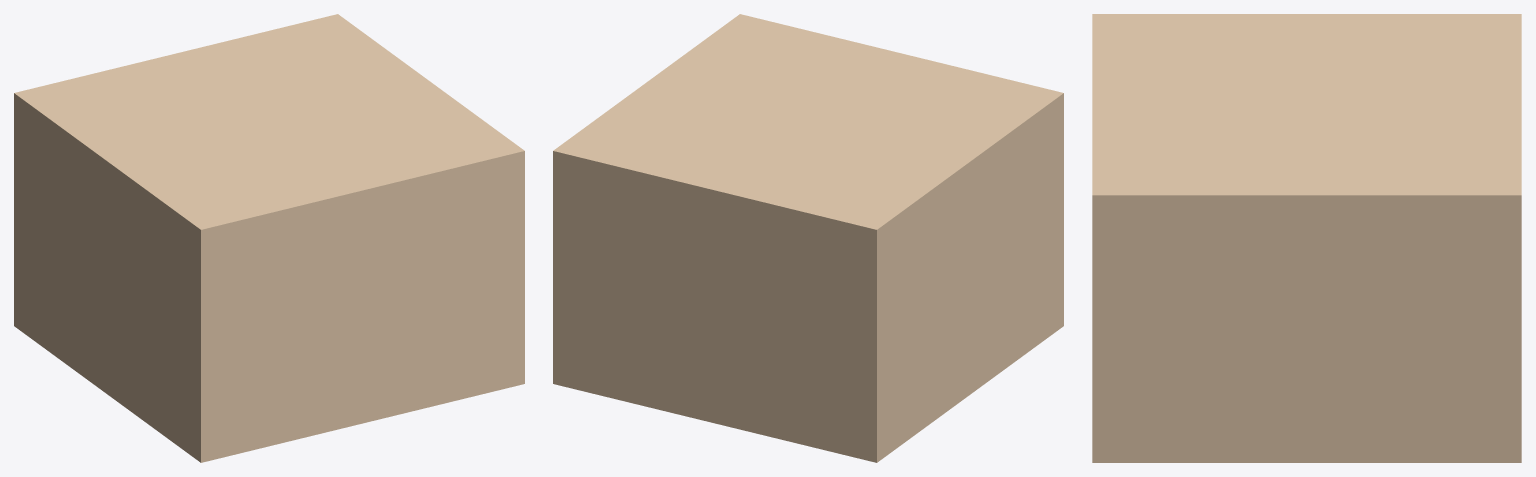
Rendered from house_thatched.gltf.
3 renders of one model, left to right at view 1: azimuth 30°, elevation 25°; view 2: azimuth 150°, elevation 25°; view 3: azimuth 270°, elevation 25°, orthographic. The views are drawn at different scales.
Visible parts, largest first — view 1: HouseThatched_node; view 2: HouseThatched_node; view 3: HouseThatched_node.
Part boxes in pixels (x1,y1,x2,y2): HouseThatched_node: (14, 14, 524, 462); HouseThatched_node: (553, 14, 1063, 462); HouseThatched_node: (1092, 14, 1521, 462).
Bounding box in the file's own units: 8 × 5.5 × 8.
